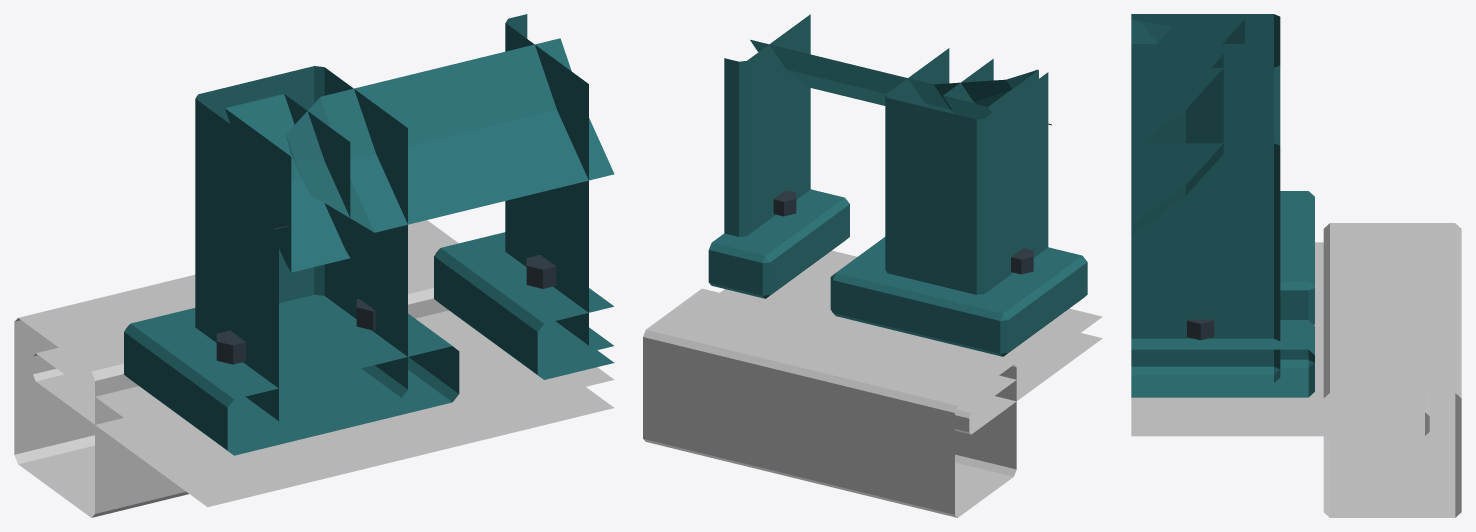
File: cell_1.obj
The picture shows the model from 3 angles, left to right: view 1: azimuth 30°, elevation 25°; view 2: azimuth 150°, elevation 25°; view 3: azimuth 270°, elevation 25°; orthographic projection. The views are drawn at different scales.
Bounding box in the file's own units: 1 × 1 × 0.8225.
